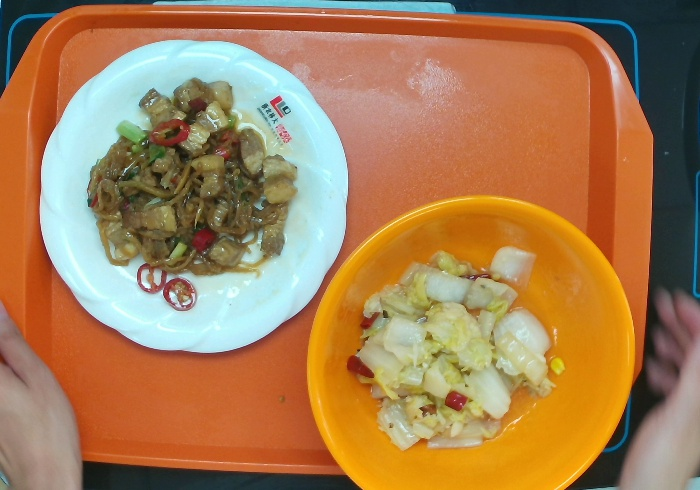ZNLD-Hua_Bian_Wan: (35, 36, 350, 356)
ZNLD-Ju_Se_Tang_Wan: (299, 191, 641, 490)
